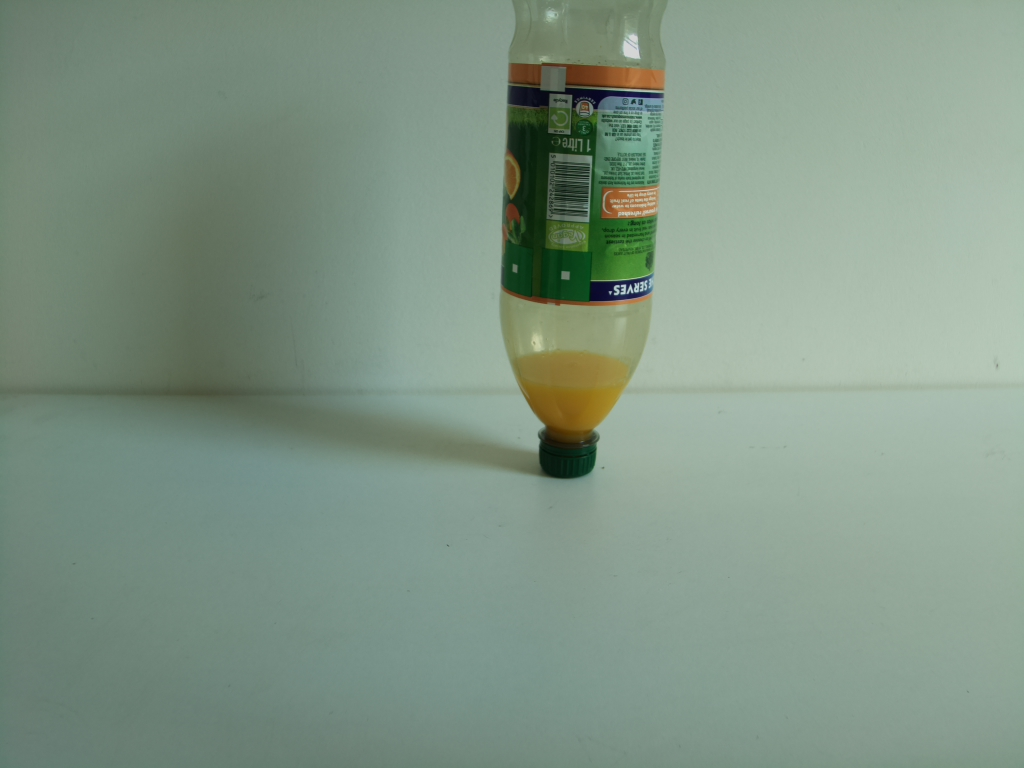juice: (491, 1, 675, 484)
